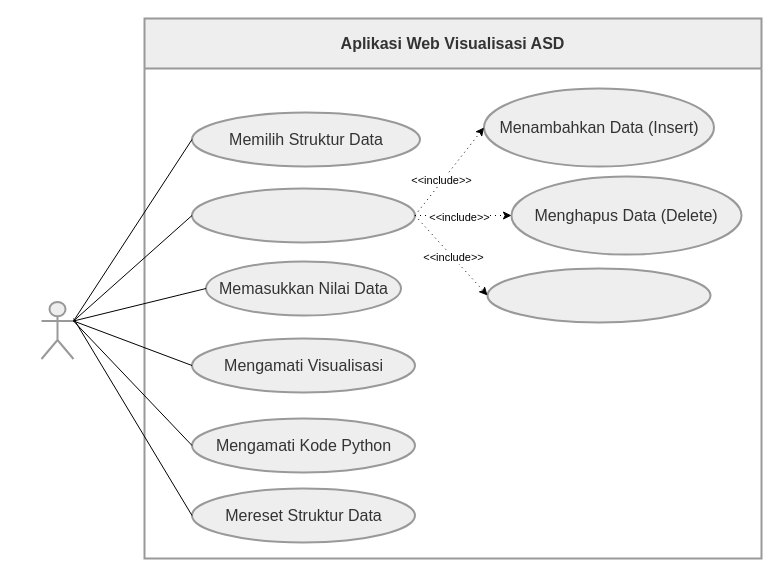
Some shapes in this 779 by 576 pixel diagram are drawn without their labels. Each missing label, with the centre of its shape:
"Mahasiswa" goes at point (57, 330).
"Memilih Operasi Struktur Data" goes at point (303, 215).
"Memperbarui Data (Update)" goes at point (598, 295).
